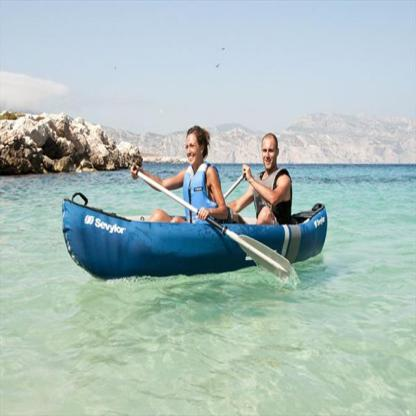face: (262, 141, 278, 171), (186, 136, 201, 166)
